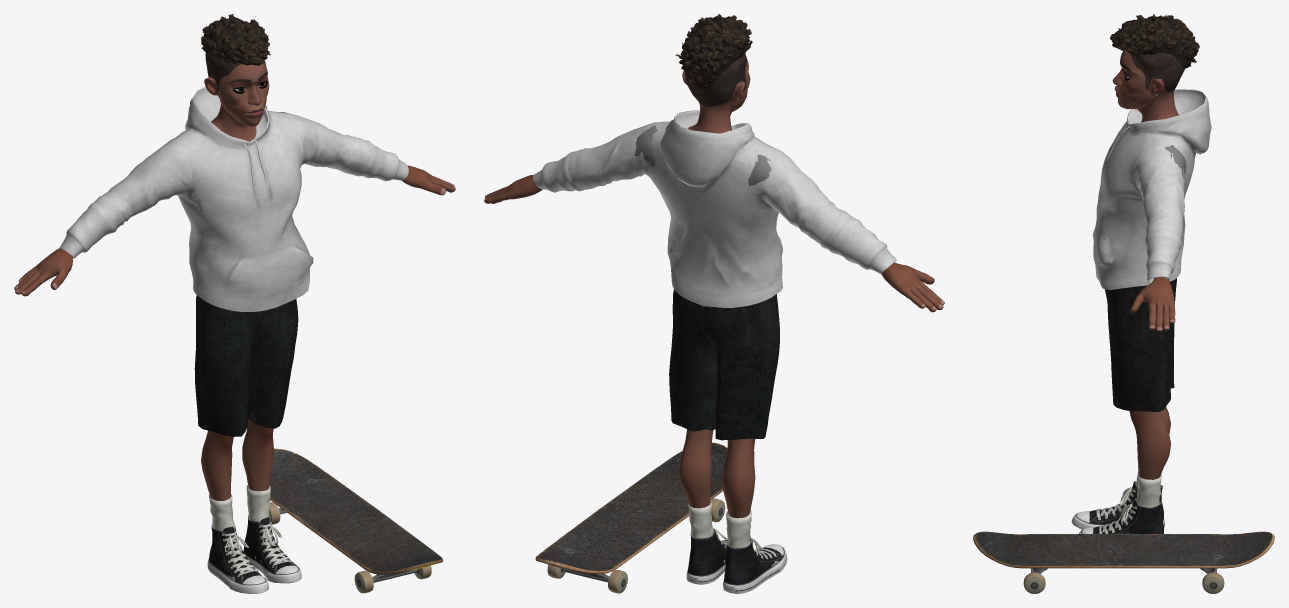
File: Frank.obj
3 views of the same model, side by side, from view 1: azimuth 30°, elevation 25°; view 2: azimuth 150°, elevation 25°; view 3: azimuth 270°, elevation 25° (orthographic). The views are drawn at different scales.
Visible parts, largest first — view 1: Hoodie, Shorts, Skate_Board, CC_Base_Body, Hair, shoes_R, shoes_L, sockL, sockR, CC_Hair; view 2: Hoodie, Shorts, Skate_Board, CC_Base_Body, Hair, shoes_R, shoes_L, CC_Hair, sockR, sockL; view 3: Hoodie, Skate_Board, Shorts, CC_Base_Body, Hair, shoes_L, CC_Hair, shoes_R, sockL.
Part boxes in pixels (x1,y1,x2,y2): Hoodie: (59, 87, 408, 311); Shorts: (194, 295, 298, 436); Skate_Board: (269, 448, 442, 593); CC_Base_Body: (14, 63, 455, 581); Hair: (201, 14, 270, 65); shoes_R: (207, 523, 268, 593); shoes_L: (243, 516, 301, 583); sockL: (246, 485, 270, 522); sockR: (209, 494, 234, 531); CC_Hair: (205, 51, 265, 93); Hoodie: (533, 110, 896, 307); Shorts: (669, 289, 779, 440); Skate_Board: (535, 442, 727, 593); CC_Base_Body: (484, 57, 944, 566); Hair: (675, 14, 752, 88); shoes_R: (723, 535, 787, 593); shoes_L: (686, 528, 727, 584); CC_Hair: (685, 53, 746, 106); sockR: (726, 510, 751, 547); sockL: (688, 500, 713, 538); Hoodie: (1092, 89, 1211, 289); Skate_Board: (973, 531, 1274, 593); Shorts: (1105, 278, 1176, 411); CC_Base_Body: (1112, 50, 1186, 479); Hair: (1110, 14, 1199, 68); shoes_L: (1079, 498, 1164, 533); CC_Hair: (1130, 53, 1184, 91); shoes_R: (1071, 481, 1164, 529); sockL: (1136, 473, 1161, 507).
Size of the model in its own units: 10.38 by 12.29 by 6.47.
